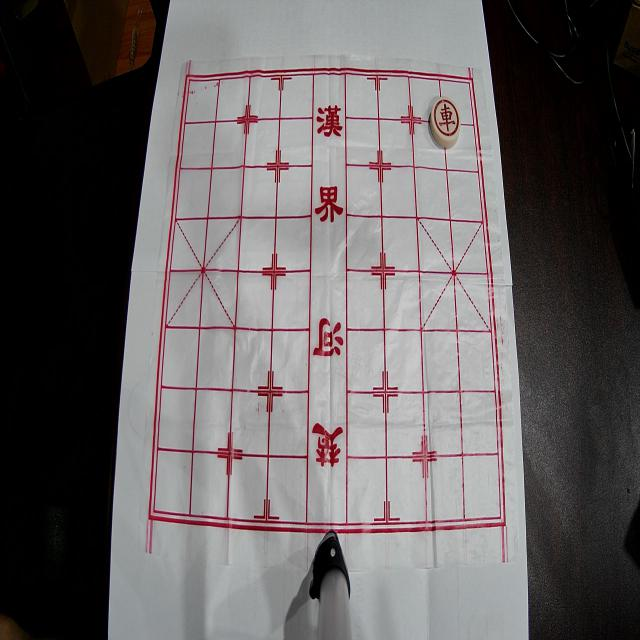red-chariot: (430, 96, 461, 148)
